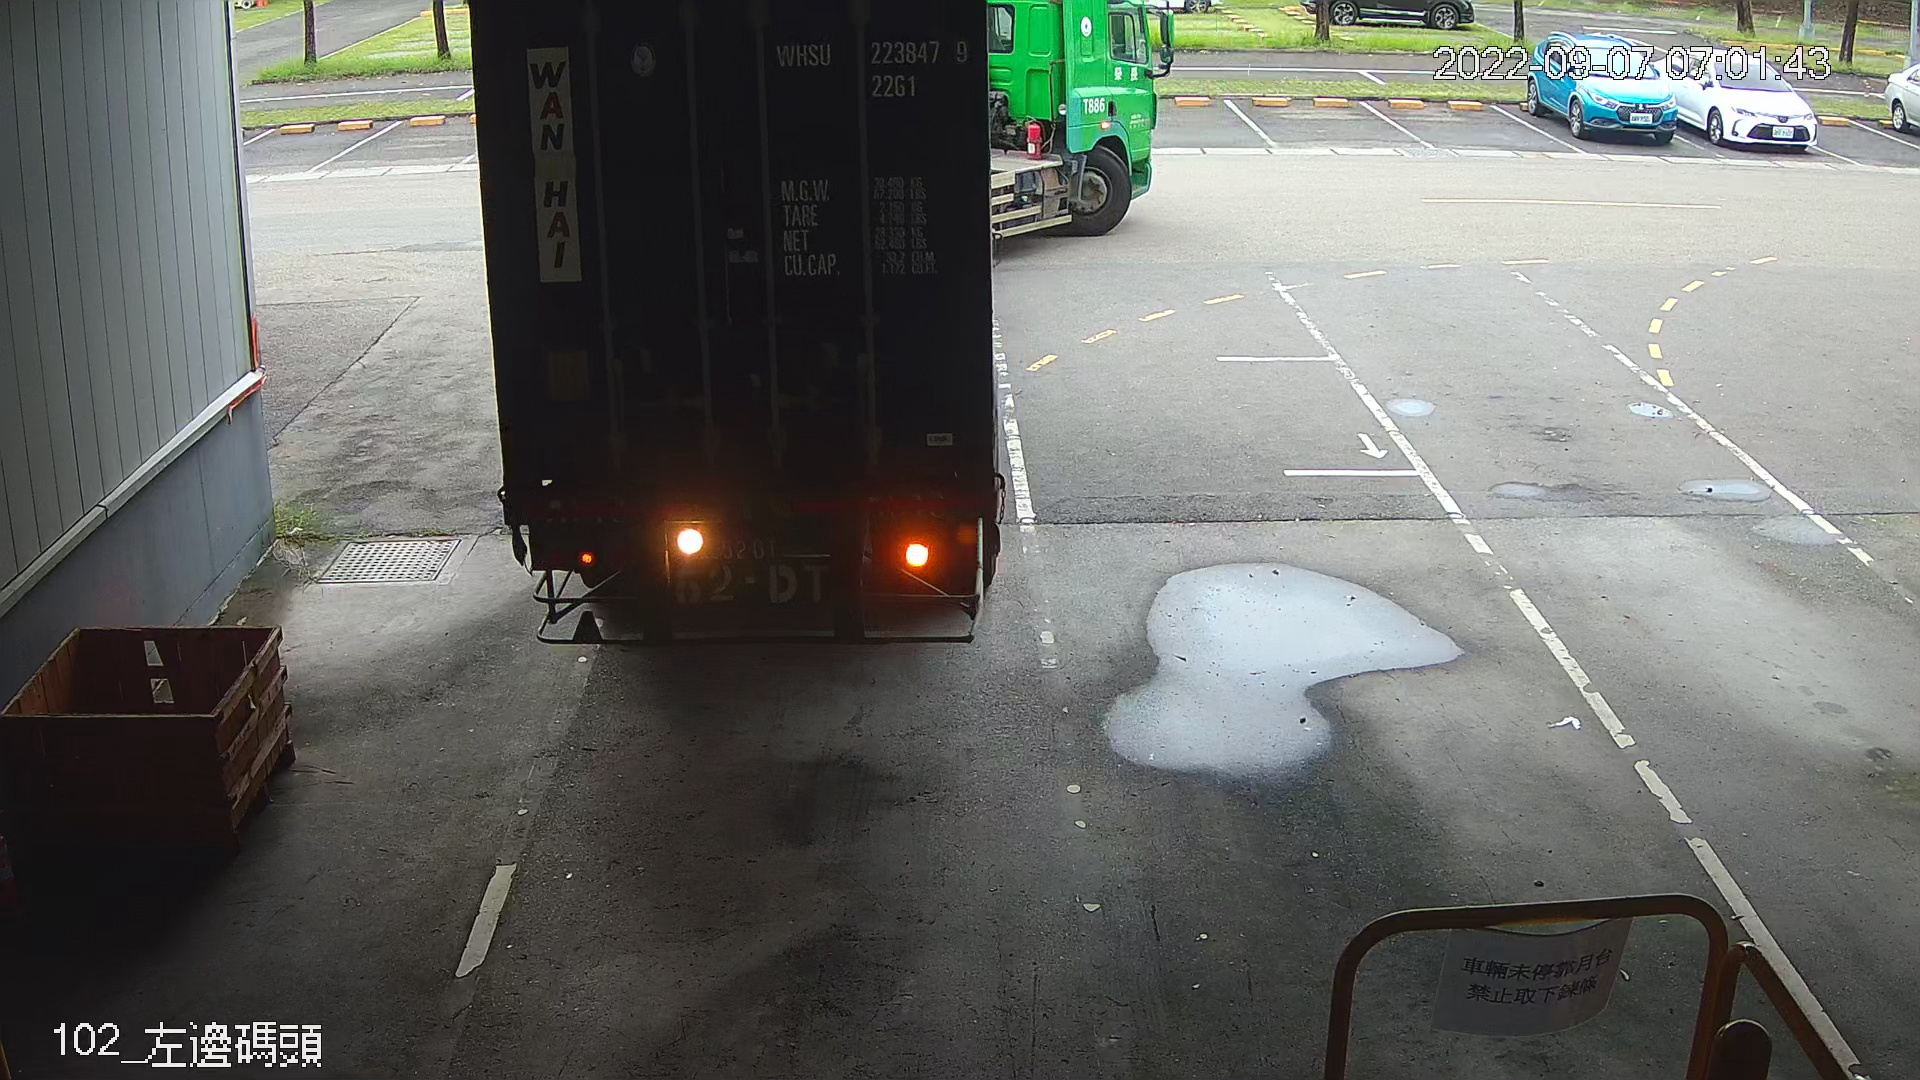container: (770, 32, 976, 109)
